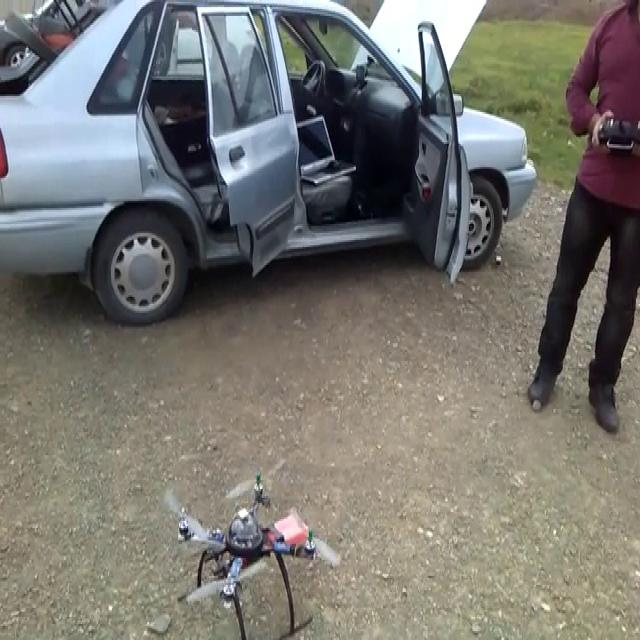drone: (169, 473, 337, 638)
